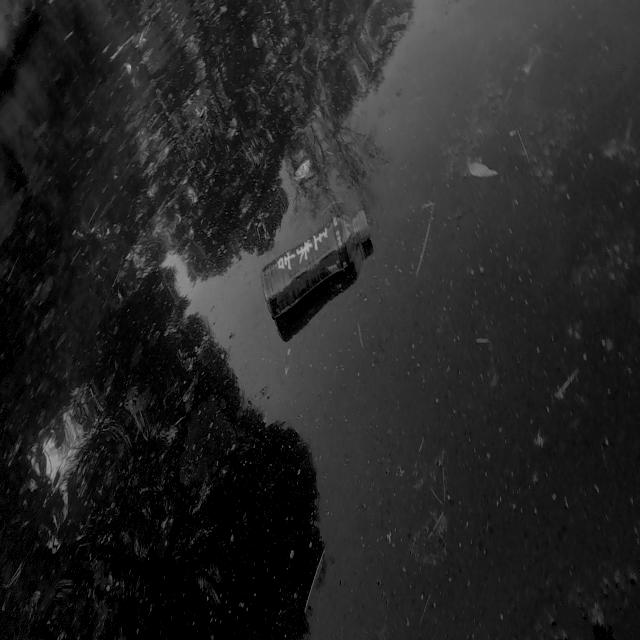bottle: (248, 201, 381, 324)
